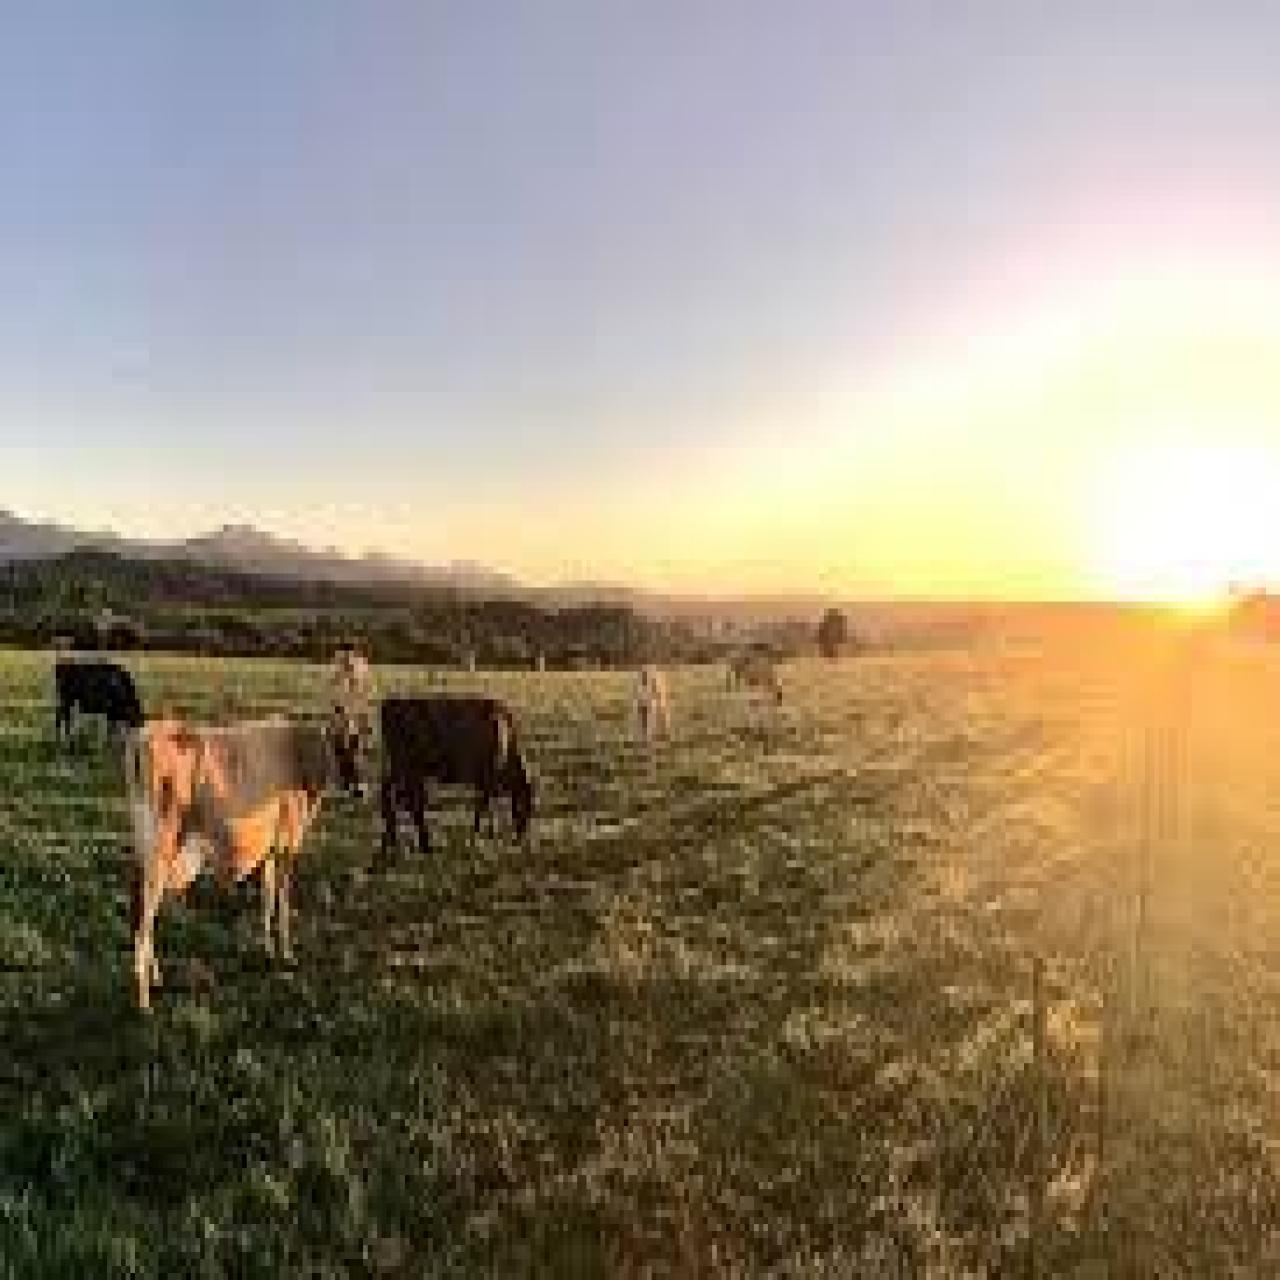cow: (123, 700, 369, 1014), (380, 696, 538, 864), (52, 661, 144, 753)
